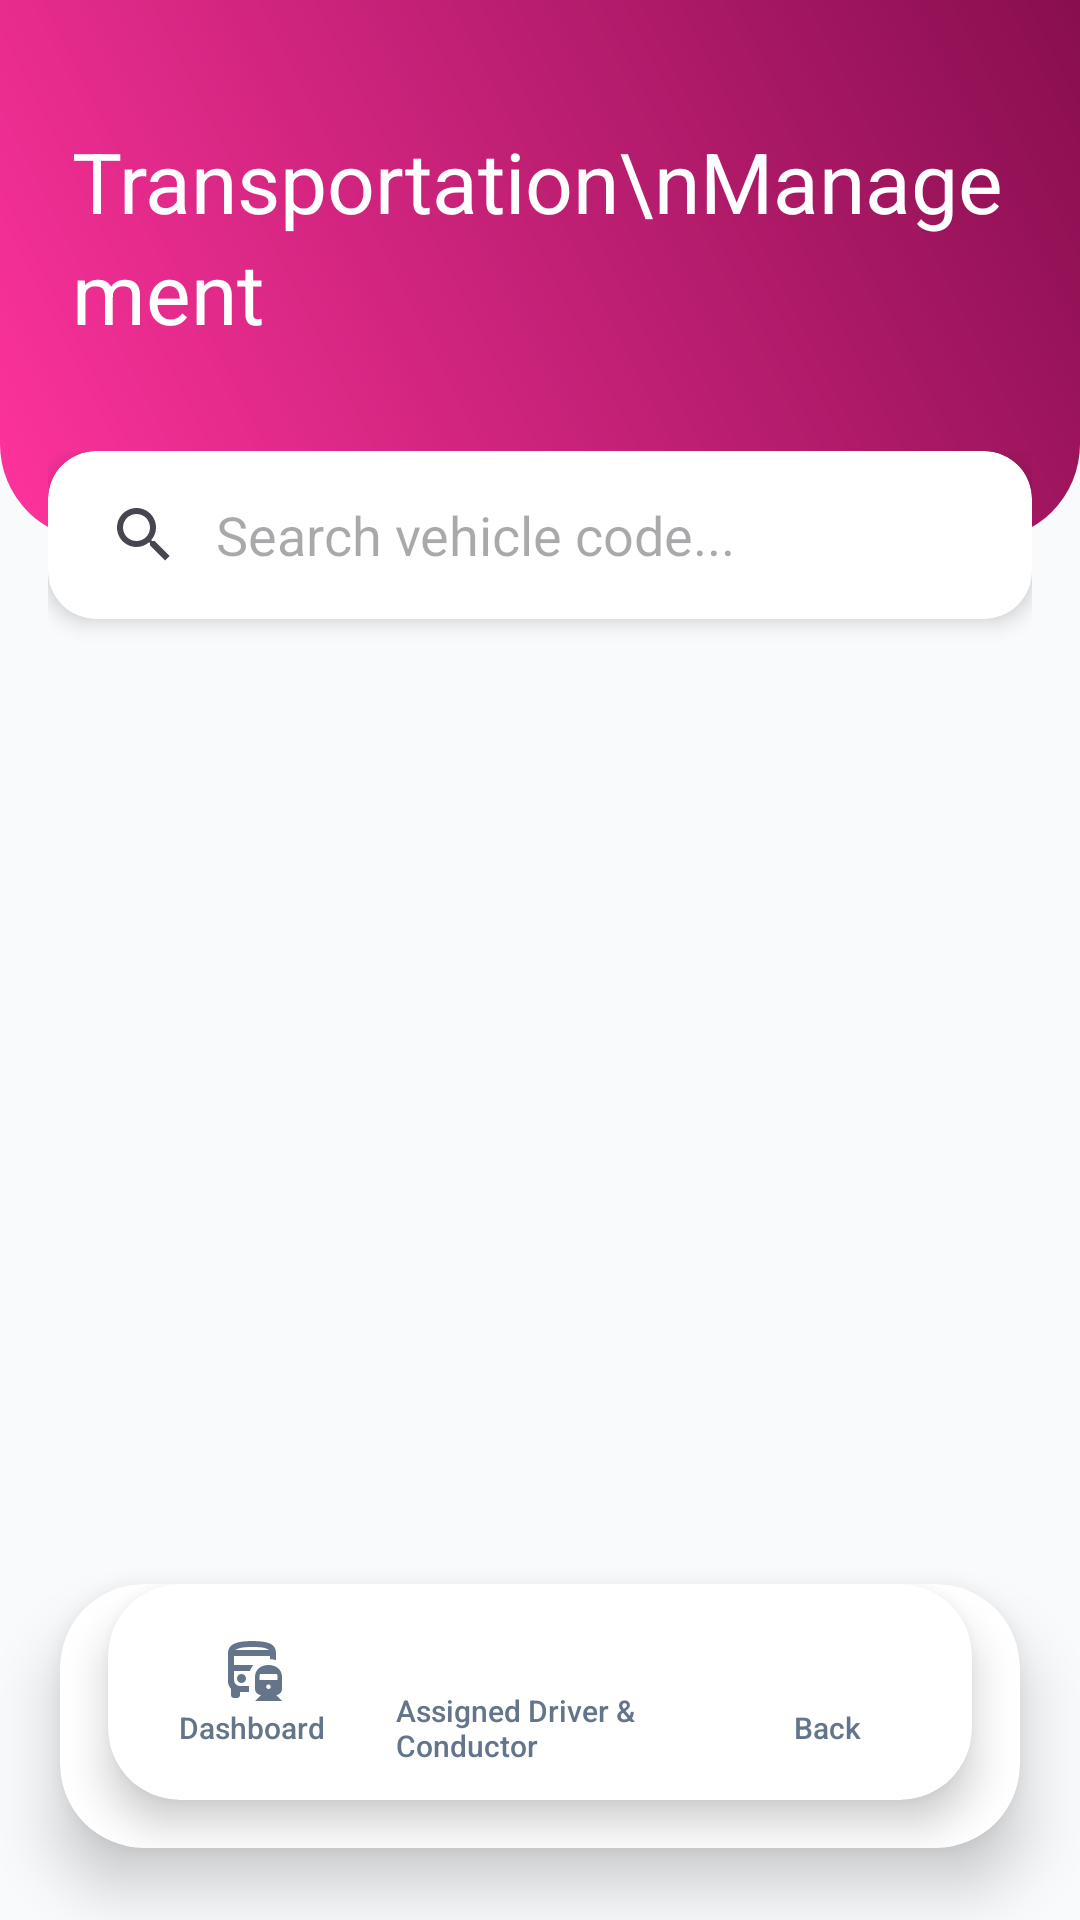

Icons on this 1080px×1920px Android screen, each with the point to tap as point (x, y):
bus railway: point (255, 1671)
